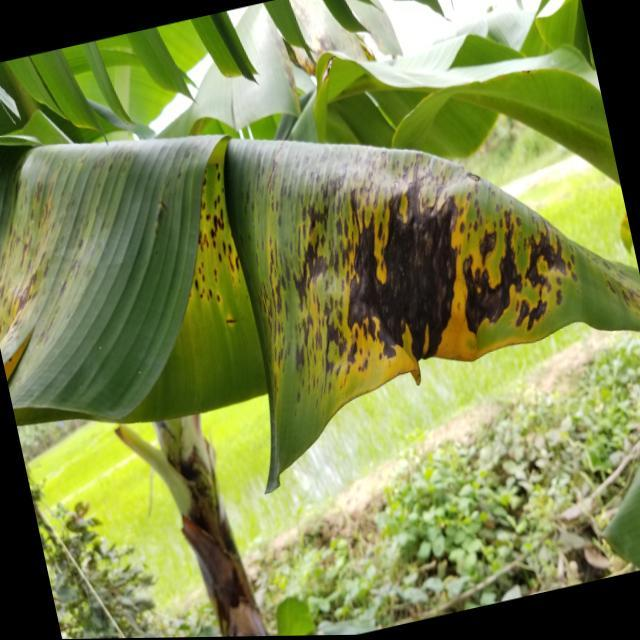Early_rust: (0, 94, 640, 499)
